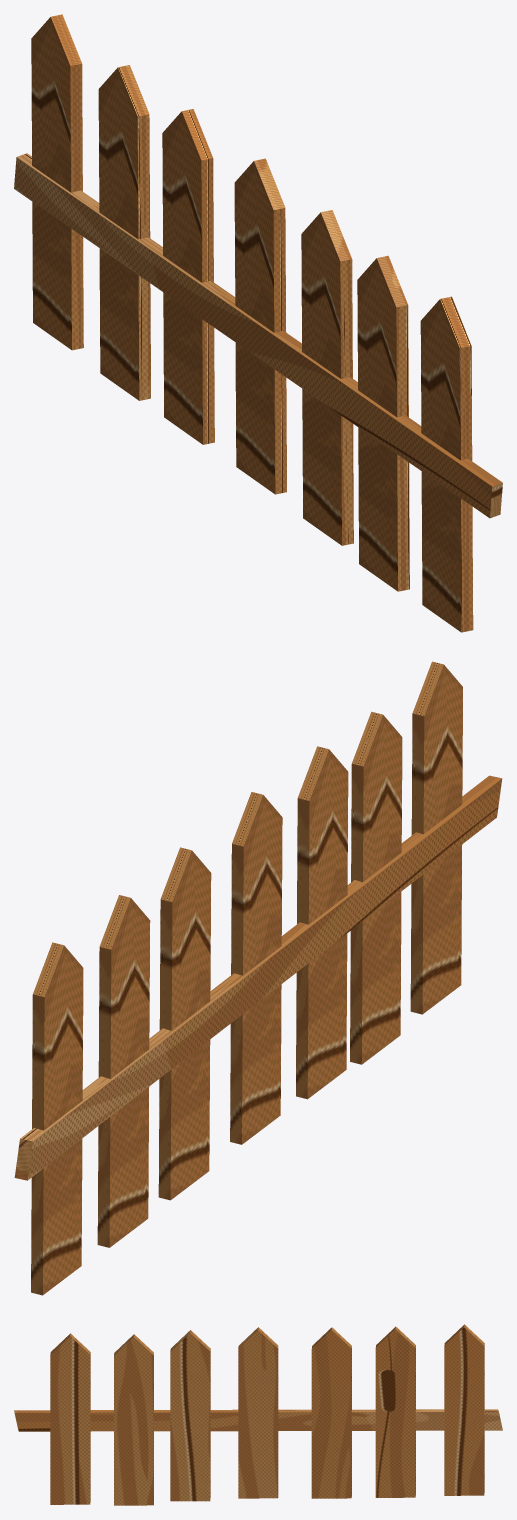
File: Cerca.fbx
The picture shows the model from 3 angles, top to bottom: view 1: azimuth 30°, elevation 25°; view 2: azimuth 150°, elevation 25°; view 3: azimuth 270°, elevation 25°; orthographic projection. The views are drawn at different scales.
Visible parts, largest first — view 1: Cerca; view 2: Cerca; view 3: Cerca.
Part boxes in pixels (x1,y1,x2,y2): Cerca: (14, 14, 502, 632); Cerca: (14, 661, 502, 1295); Cerca: (14, 1324, 502, 1505).
Size of the model in its own units: 0.9942 by 10.66 by 26.98.
Materials: 1 (1 with a texture image).
